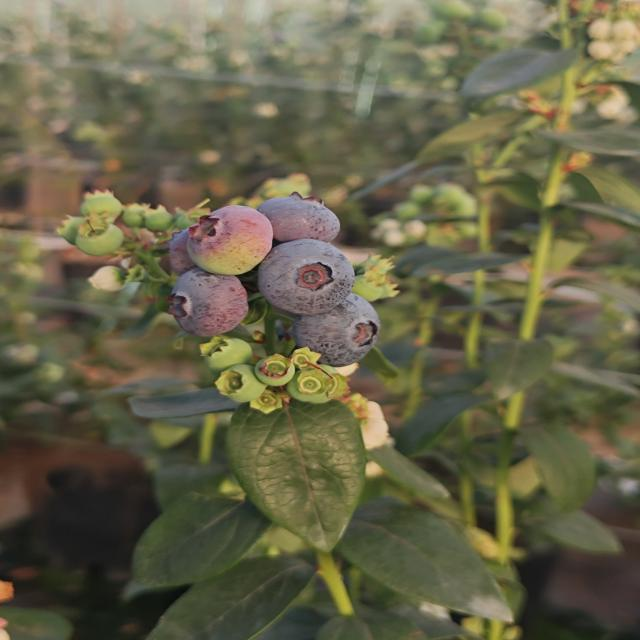ripe: (255, 237, 357, 318), (290, 292, 383, 368), (163, 266, 251, 340), (255, 192, 343, 244), (165, 218, 228, 274)
